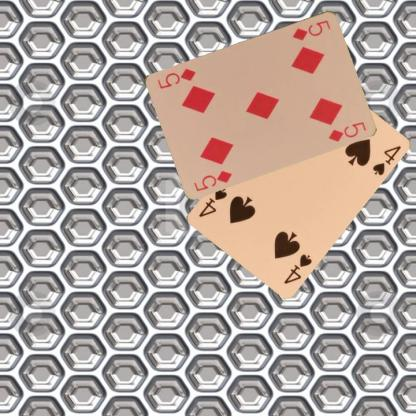4s: (281, 251, 313, 285)
5d: (290, 17, 332, 42), (192, 167, 234, 192)
